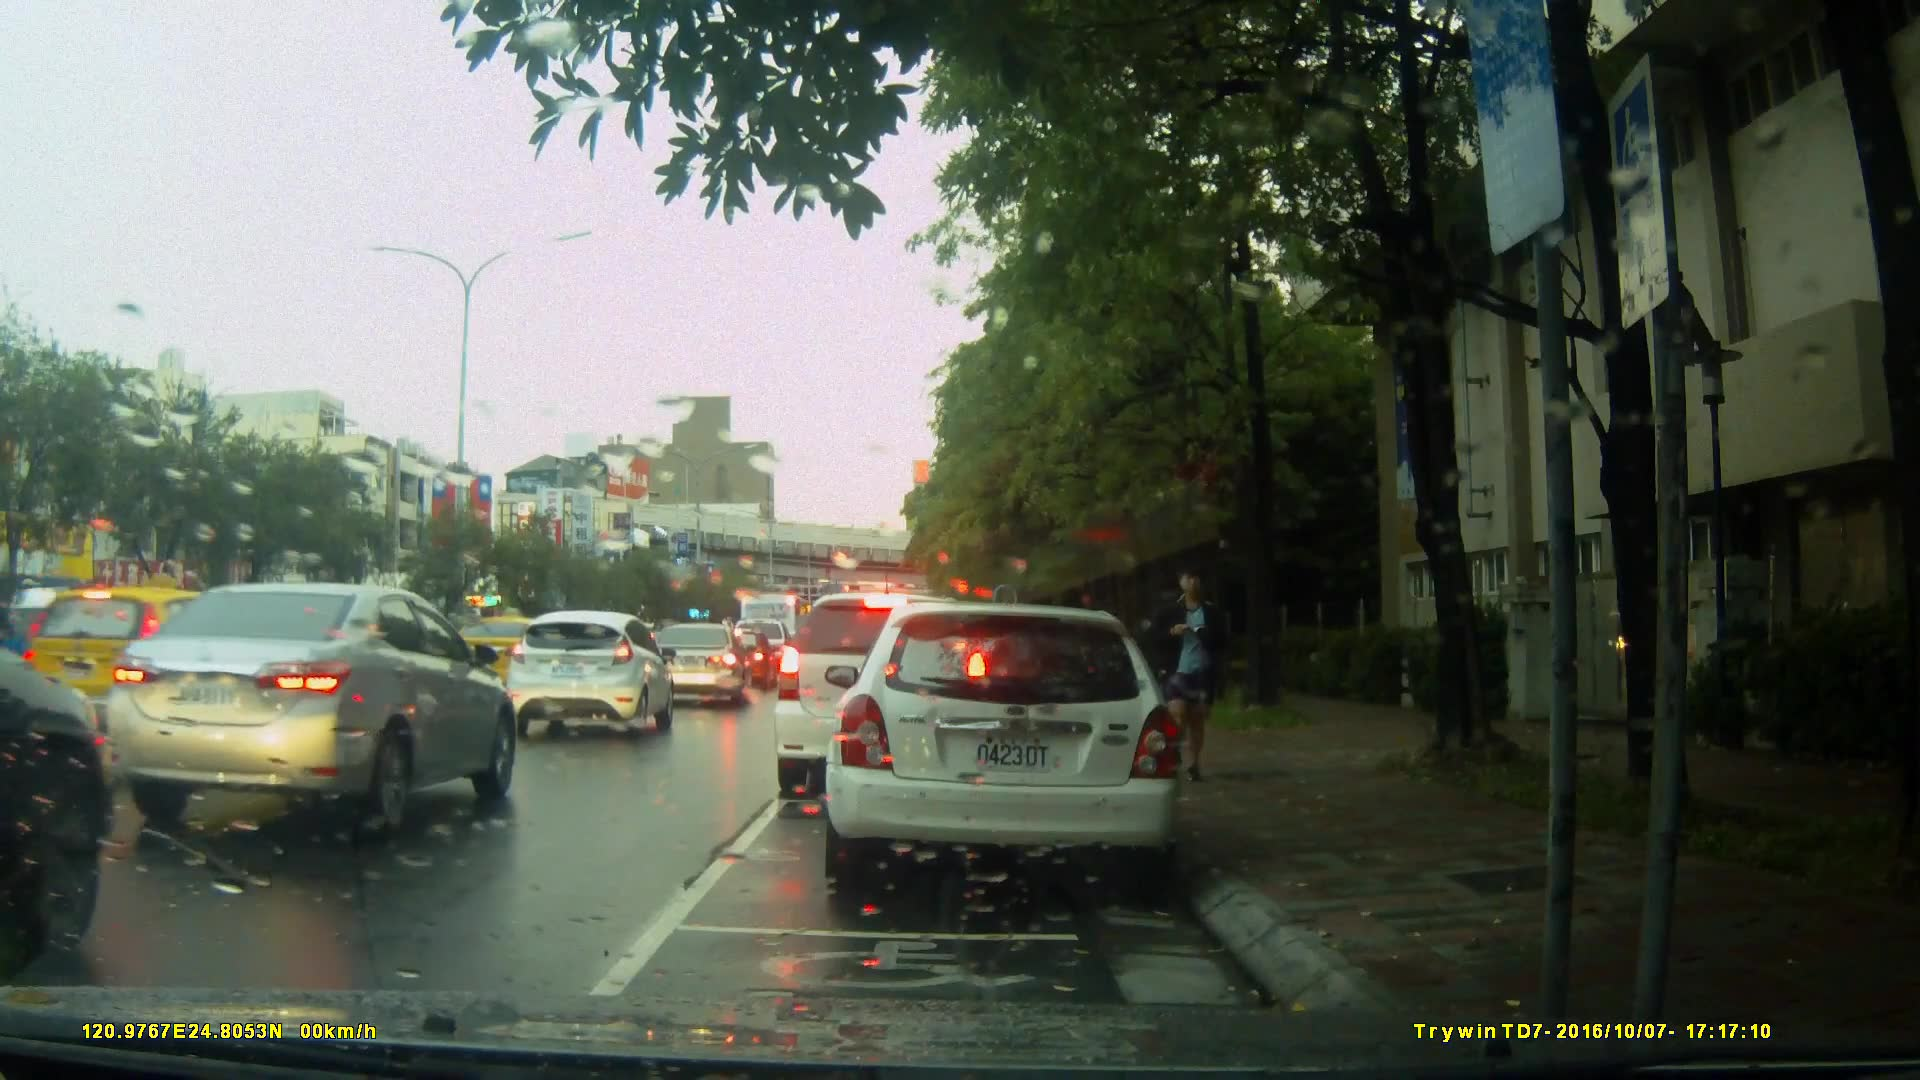pedestrian: (1150, 561, 1222, 751)
vehicle: (100, 580, 525, 839), (835, 594, 1194, 898), (776, 590, 1026, 784), (37, 581, 260, 767), (500, 609, 678, 737), (443, 614, 574, 700), (643, 621, 753, 711), (718, 578, 817, 664), (708, 629, 780, 689)
